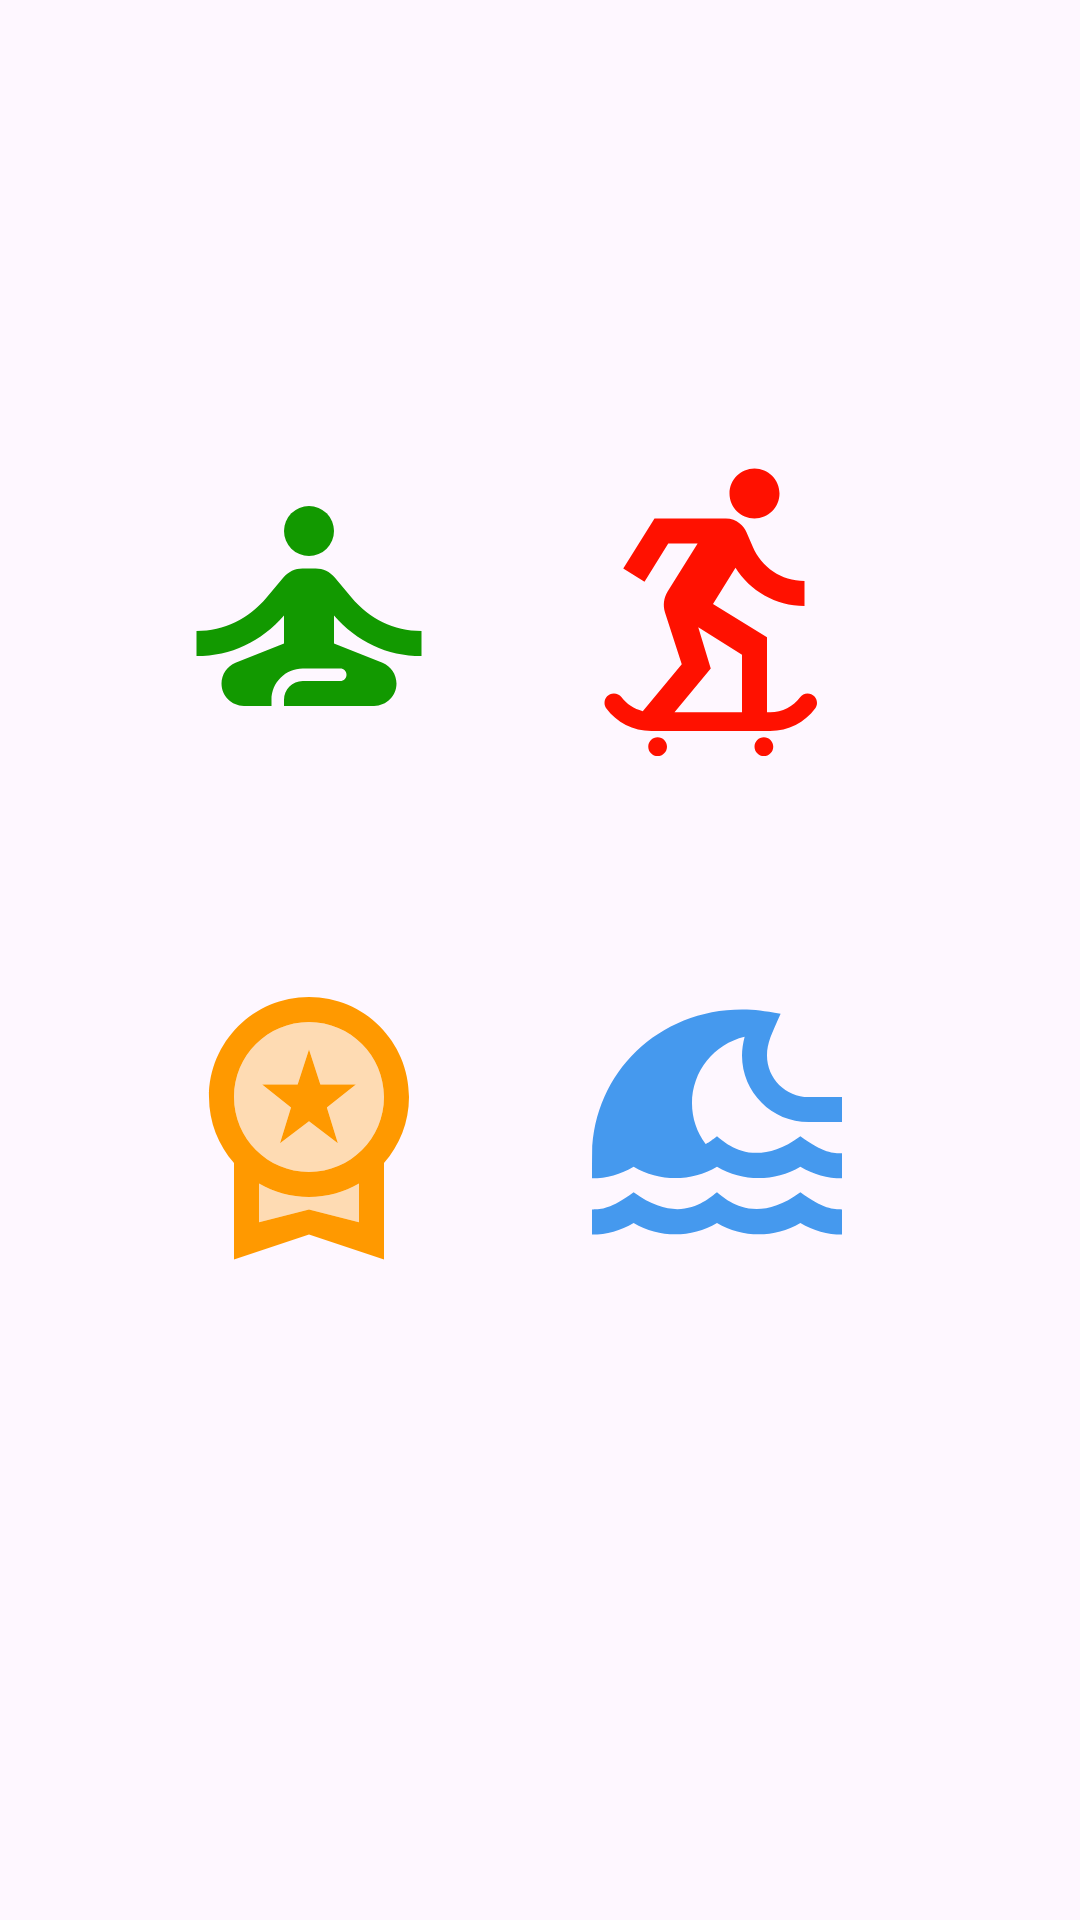

Named icons in this screenshot (1080px×1920px) and their centers, (x=x, y=y):
medalla: (x=308, y=1128)
ola: (x=717, y=1122)
skate: (x=710, y=612)
zen: (x=309, y=606)
